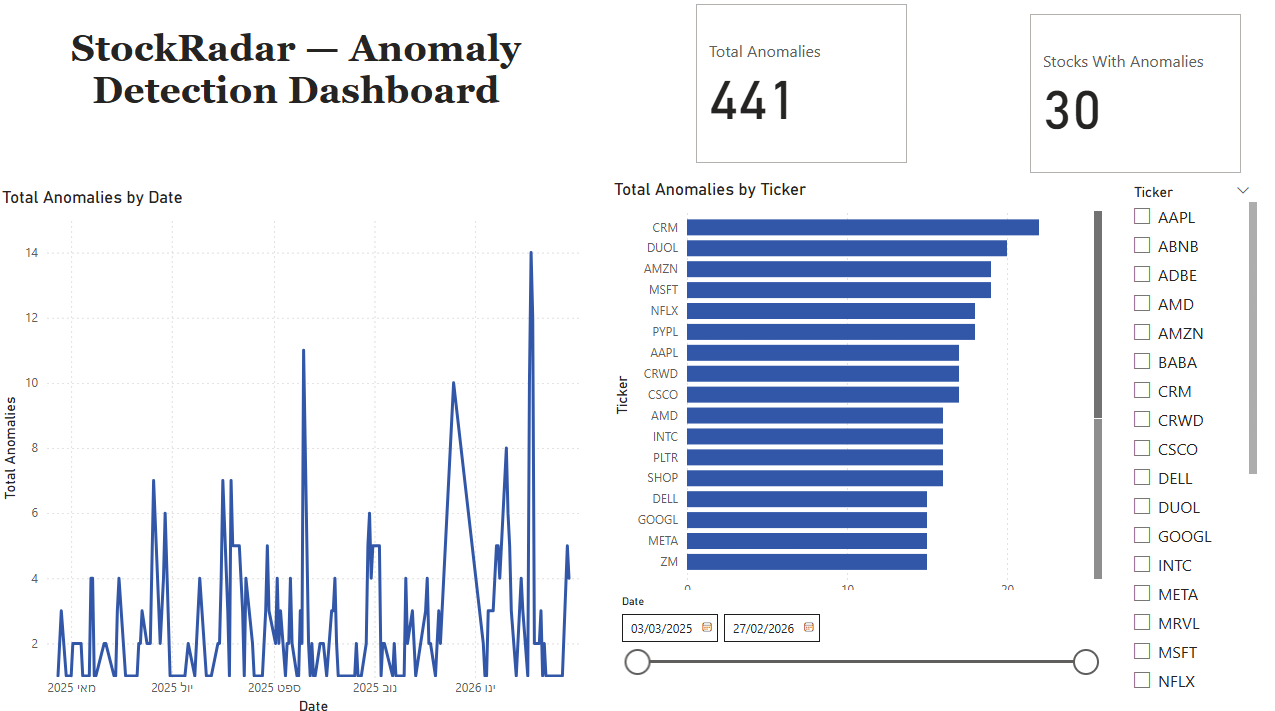

This screenshot's page, from the dashboard's own definition file:
{"tool":"powerbi","page":{"name":"Overview","canvas":[1280,720],"ordinal":0},"visuals":[{"type":"cardVisual","fields":{"Data":["anomaly_results.Total Anomalies"]},"box":[11.8,31.7,147.8,168.7],"z":0},{"type":"cardVisual","fields":{"Data":["anomaly_results.Stocks With Anomalies"]},"box":[296.5,31.7,220.4,168.7],"z":1000},{"type":"clusteredBarChart","fields":{"Category":["anomaly_results.Ticker"],"Y":["anomaly_results.Total Anomalies"]},"box":[337.3,211.3,558.6,316.5],"z":2000},{"type":"slicer","fields":{"Values":["anomaly_results.Ticker"]},"box":[913.1,256.6,263.9,261.2],"z":3000},{"type":"slicer","fields":{"Values":["anomaly_results.Date"]},"box":[366.3,555,529.6,113.4],"z":4000}]}

Visuals, with their boxes in screenshot pixels (x1, y1, x2, y2), scaled from the page's 1280x720 canvas onto the 1275x711 screenshot:
cardVisual - anomaly_results.Total Anomalies: [x1=12, y1=31, x2=159, y2=198]
cardVisual - anomaly_results.Stocks With Anomalies: [x1=295, y1=31, x2=515, y2=198]
clusteredBarChart - anomaly_results.Ticker x anomaly_results.Total Anomalies: [x1=336, y1=209, x2=892, y2=521]
slicer - anomaly_results.Ticker: [x1=910, y1=253, x2=1172, y2=511]
slicer - anomaly_results.Date: [x1=365, y1=548, x2=892, y2=660]
